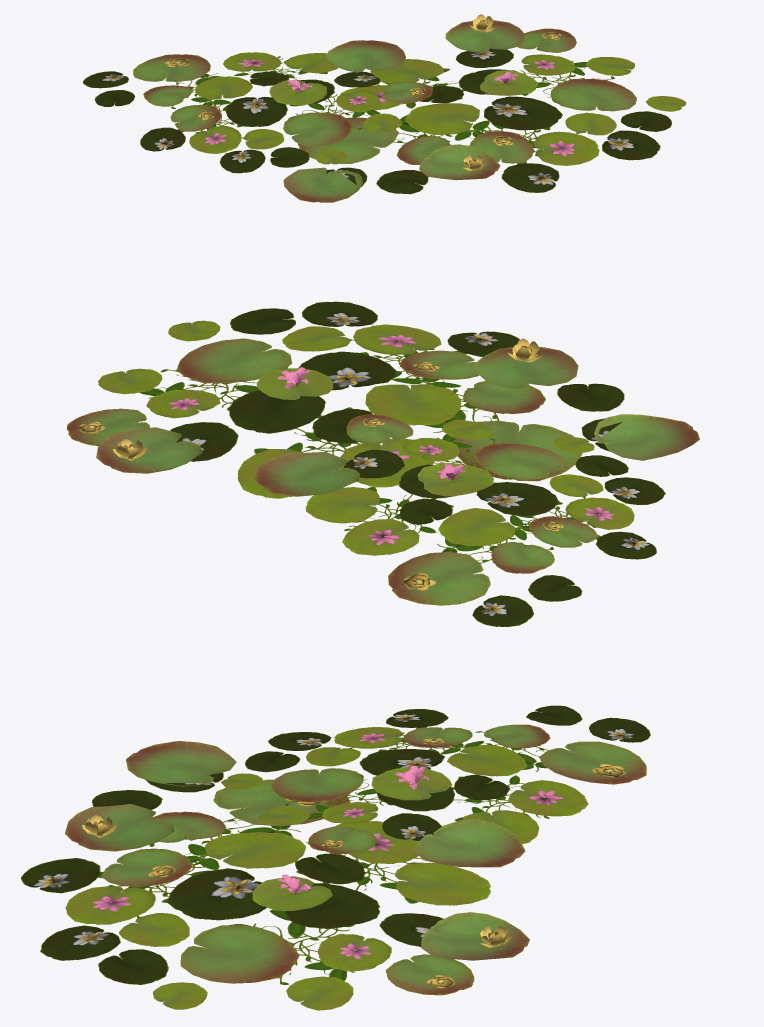
File: lillymass_lod1.fbx
3 views of the same model, one above another, from view 1: azimuth 30°, elevation 25°; view 2: azimuth 150°, elevation 25°; view 3: azimuth 270°, elevation 25° (orthographic). The views are drawn at different scales.
Visible parts, largest first — view 1: Mesh Object; view 2: Mesh Object; view 3: Mesh Object.
Boxes of the visible parts, x1,y1,x2,y2 form: Mesh Object: [83, 14, 686, 202]; Mesh Object: [67, 301, 699, 626]; Mesh Object: [21, 705, 650, 1010].
Bounding box in the file's own units: 2.53 × 0.1416 × 2.33.
